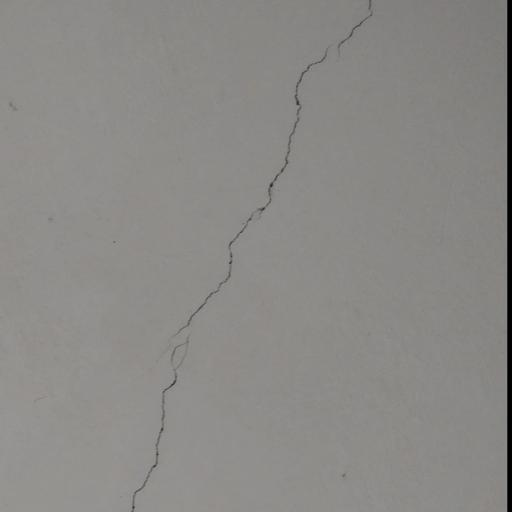major_crack: (126, 0, 375, 512)
